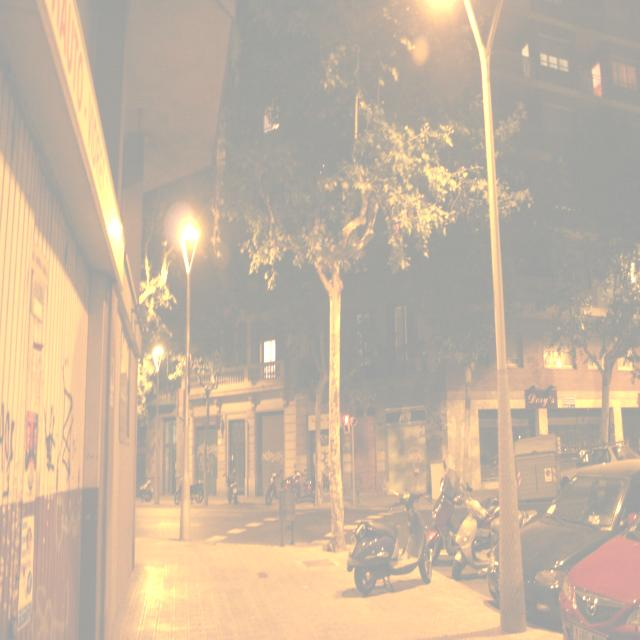Motorbike: (343, 496, 453, 602)
